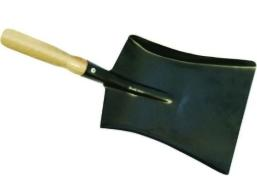PELLE: (0, 19, 257, 192)
